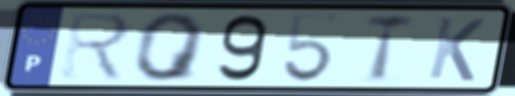5: (279, 11, 351, 86)
9: (215, 13, 270, 83)
K: (424, 14, 489, 84)
Q: (132, 11, 209, 84)
R: (58, 11, 134, 84)
T: (362, 13, 418, 86)
